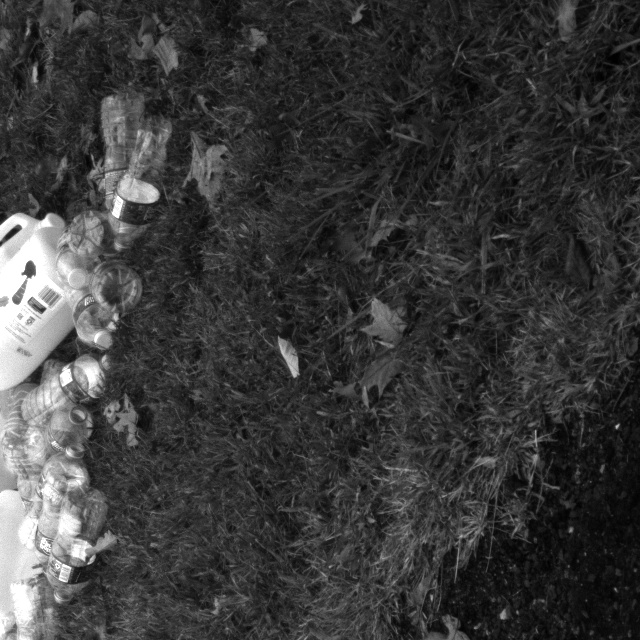bottle: (103, 114, 182, 255), (42, 474, 110, 608), (19, 346, 118, 435), (23, 396, 107, 500), (94, 81, 151, 233), (14, 572, 60, 639), (91, 265, 147, 320)
can: (0, 226, 99, 404), (0, 201, 71, 338)
